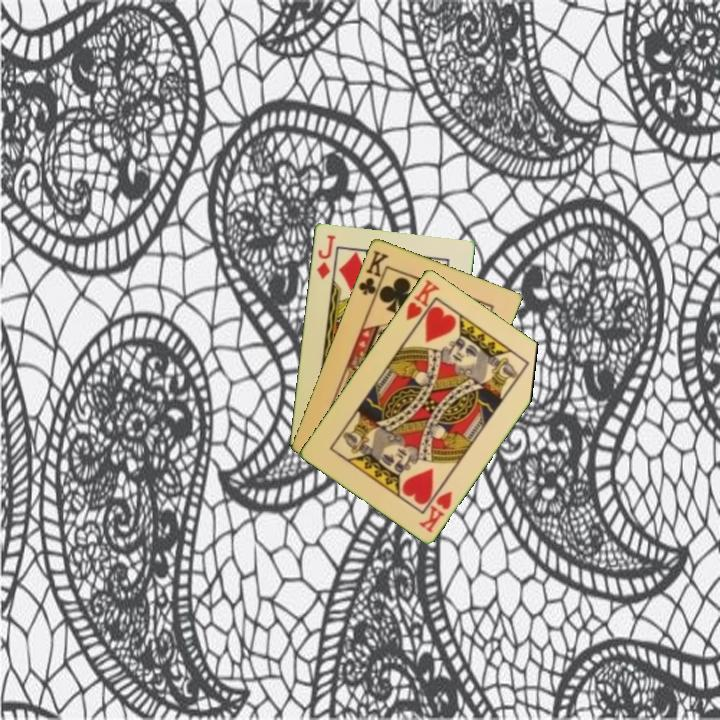Jd: (313, 231, 338, 281)
Kc: (355, 246, 391, 303)
Kh: (402, 275, 443, 331), (415, 487, 455, 535)
